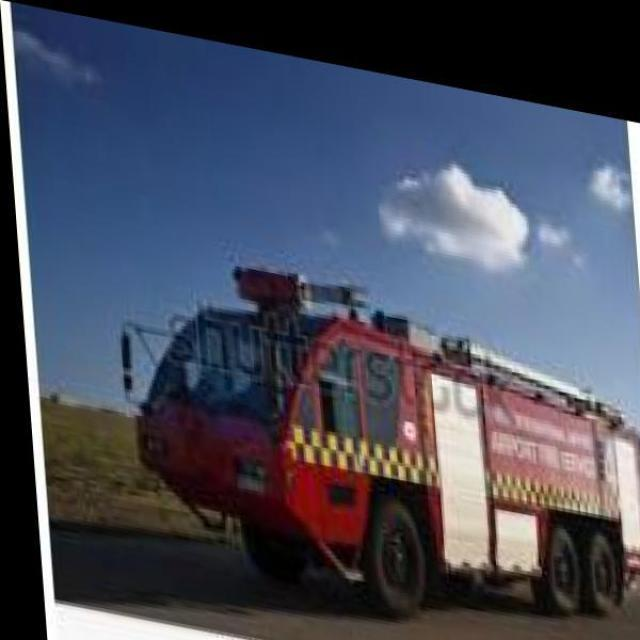emergency: (118, 260, 638, 620)
